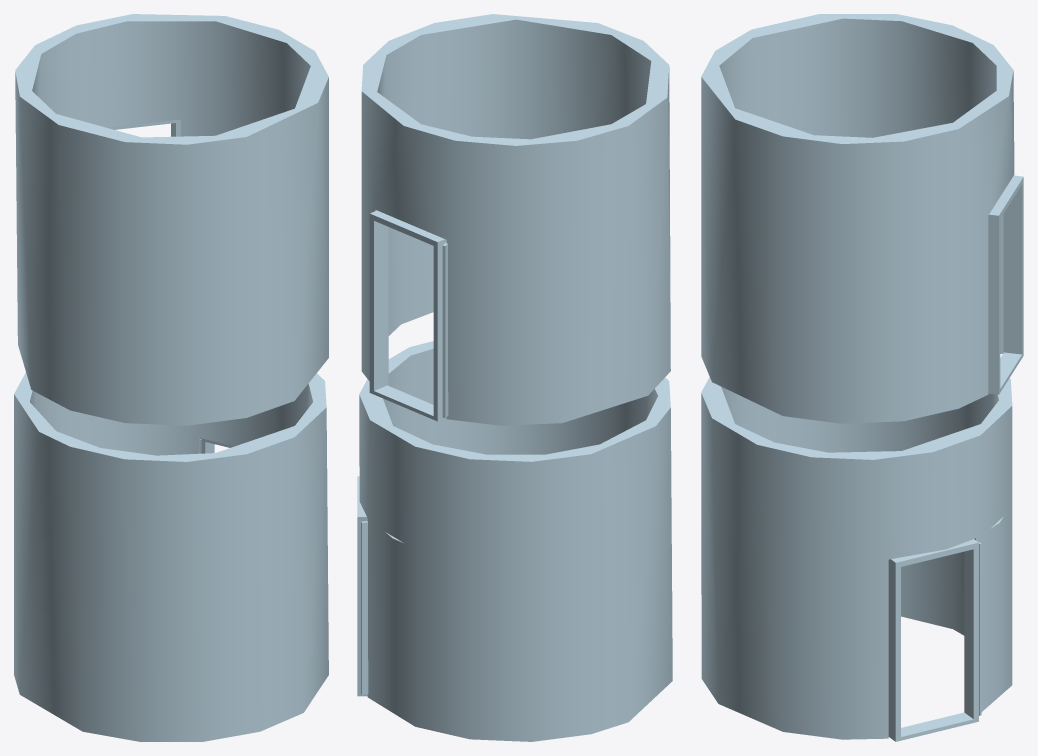
File: elevator_shaft_lod2.glb
The picture shows the model from 3 angles, left to right: view 1: azimuth 30°, elevation 25°; view 2: azimuth 150°, elevation 25°; view 3: azimuth 270°, elevation 25°; orthographic projection.
Visible parts, largest first — view 1: Elevator shell 1, Elevator shell 0; view 2: Elevator shell 1, Elevator shell 0, Elevator door frame 1 (×4), Elevator door leaf 0, Elevator door track 0, Elevator door track 1, Elevator door frame 0; view 3: Elevator shell 1, Elevator shell 0, Elevator door frame 1 (×4), Elevator door frame 0 (×4), Elevator door leaf 0.
Boxes of the visible parts, x1=… form: Elevator shell 1: x1=15, y1=14, x2=328, y2=425; Elevator shell 0: x1=14, y1=372, x2=328, y2=741; Elevator shell 1: x1=361, y1=14, x2=670, y2=425; Elevator shell 0: x1=359, y1=341, x2=672, y2=741; Elevator door frame 1 (×4): x1=369, y1=210, x2=446, y2=421; Elevator door leaf 0: x1=383, y1=532, x2=404, y2=716; Elevator door track 0: x1=361, y1=521, x2=368, y2=694; Elevator door track 1: x1=442, y1=242, x2=448, y2=417; Elevator door frame 0: x1=357, y1=514, x2=366, y2=692; Elevator shell 1: x1=701, y1=14, x2=1014, y2=423; Elevator shell 0: x1=701, y1=377, x2=1012, y2=739; Elevator door frame 1 (×4): x1=988, y1=175, x2=1023, y2=394; Elevator door frame 0 (×4): x1=888, y1=539, x2=978, y2=741; Elevator door leaf 0: x1=987, y1=516, x2=1003, y2=703.
Size of the model in its own units: 3.2 by 6.6 by 3.24.
